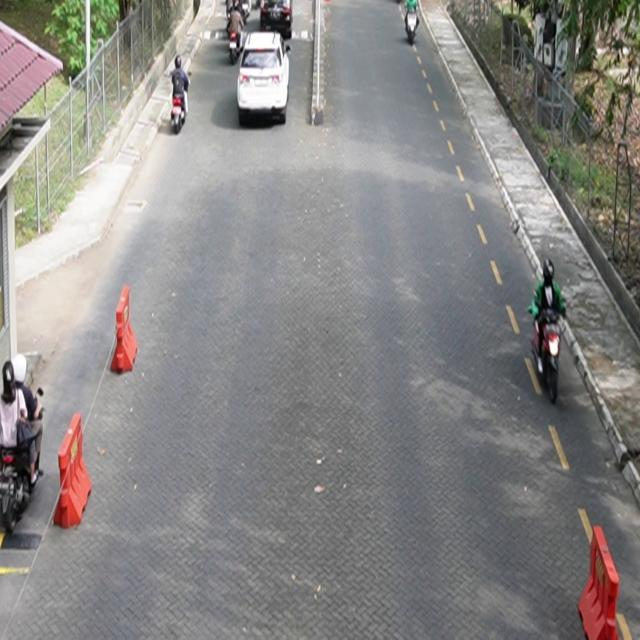car: (238, 31, 293, 126)
